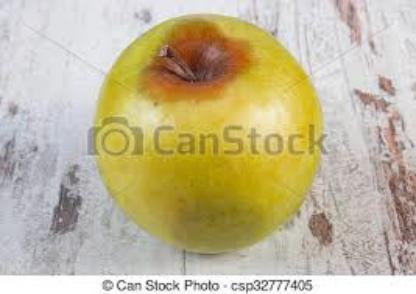defect: (140, 25, 260, 116)
